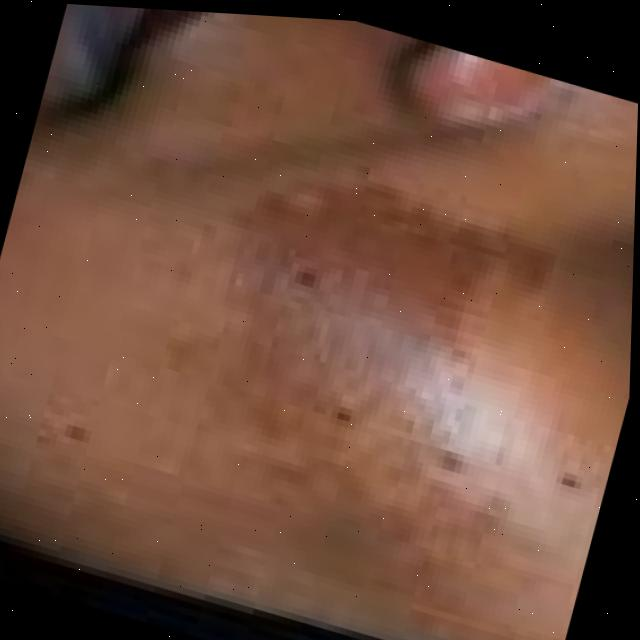Melasma: (188, 175, 538, 584)
